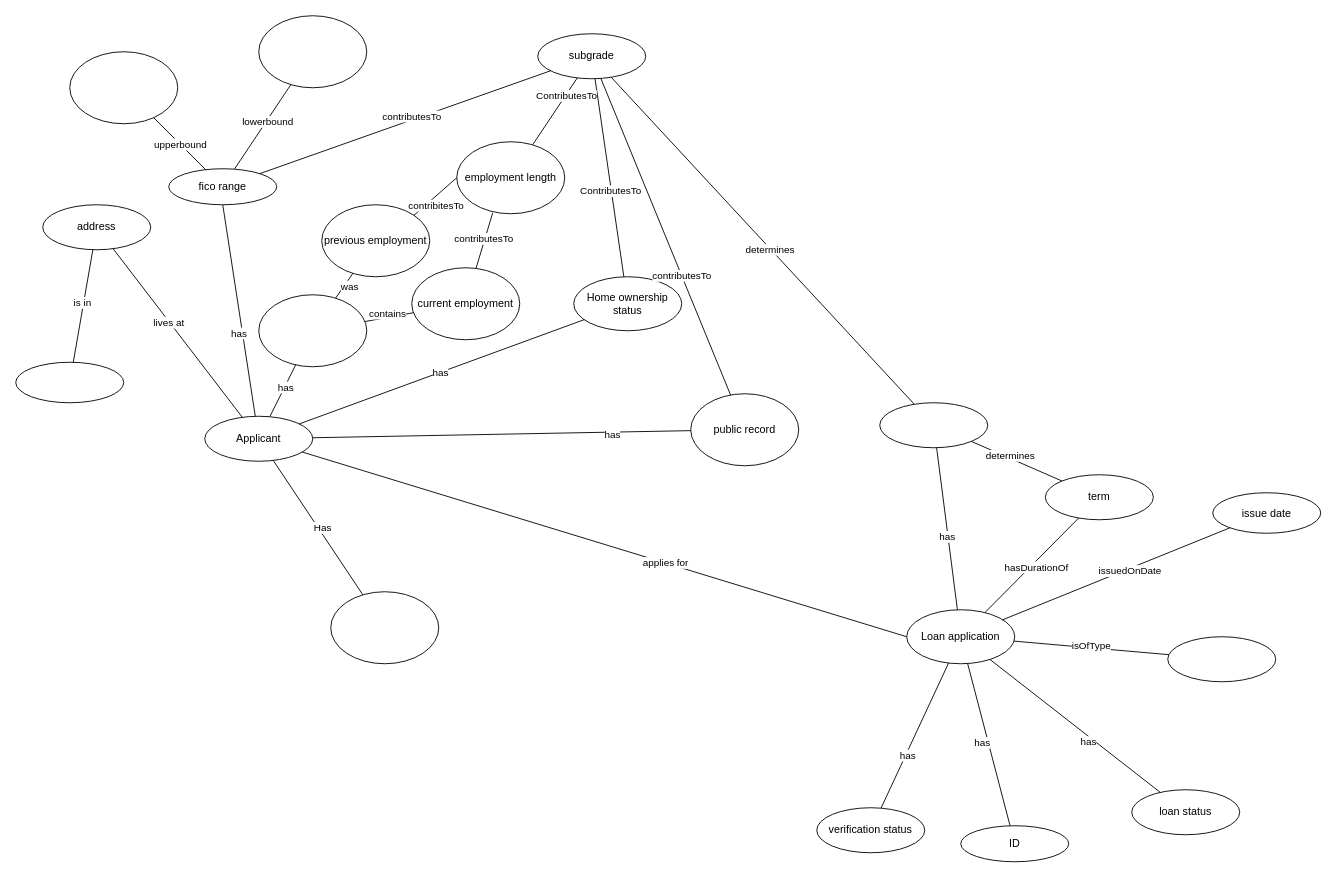
The diagram is 1337 pixels wide and 878 high, and some of its shapes have lost their labels. The centre of each missing label's shape, as x and y in pixels:
"application type" belongs at point (1221, 659).
"employment" belongs at point (312, 330).
"fico range high" belongs at point (123, 87).
"fico range low" belongs at point (312, 51).
"interest rate" belongs at point (933, 425).
"revolving utilisation" belongs at point (384, 627).
"state" belongs at point (69, 382).
